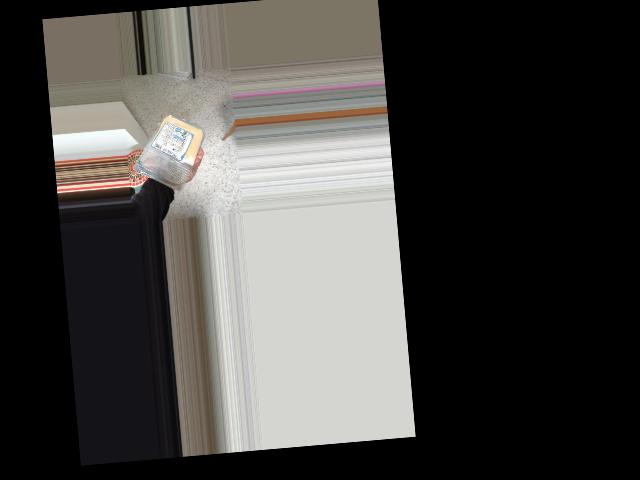cheese: (135, 110, 203, 186)
